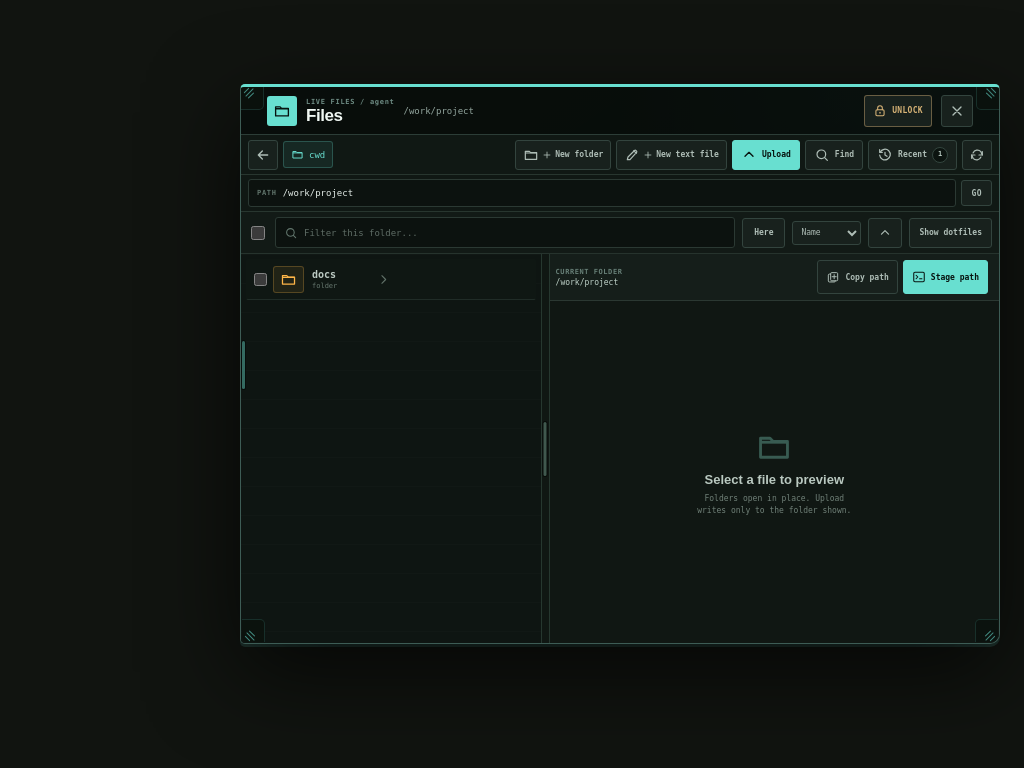
Test: SessionFilesPanel › fuzzy-locates a nested file and opens it in its parent folder
Click the button with aria-label "Open fuzzy file locator" at (834, 154), box [805, 140, 863, 170]
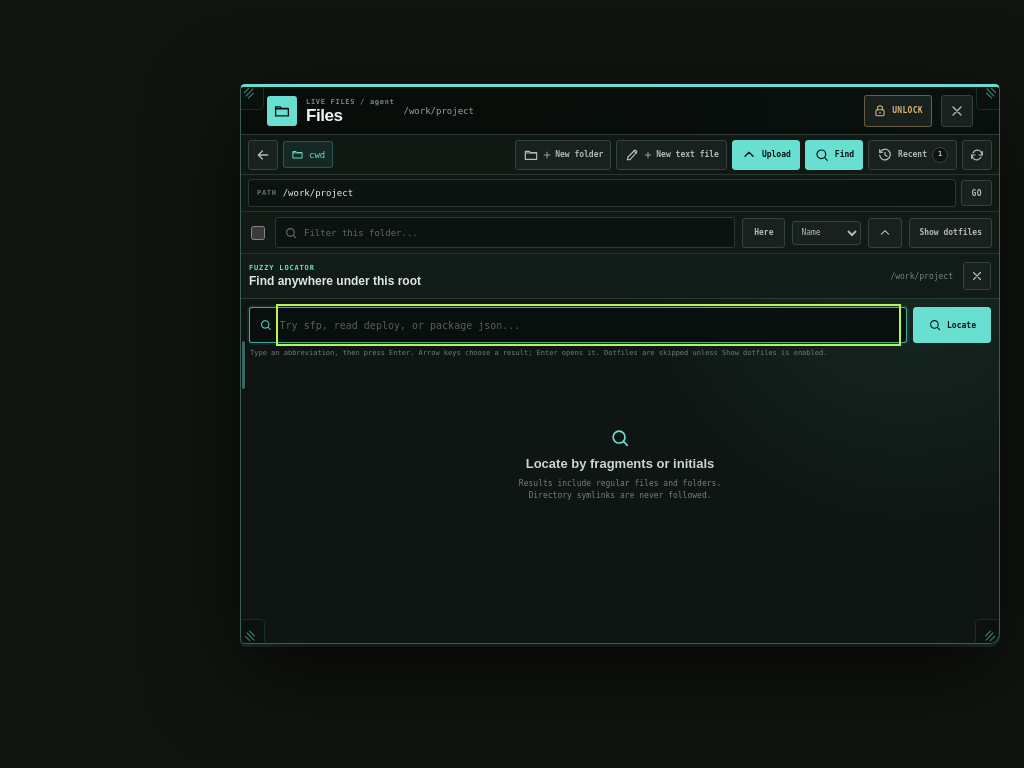
Type "sgm" into the dropdown named "Fuzzy file search" at (588, 325), box [280, 308, 897, 342]
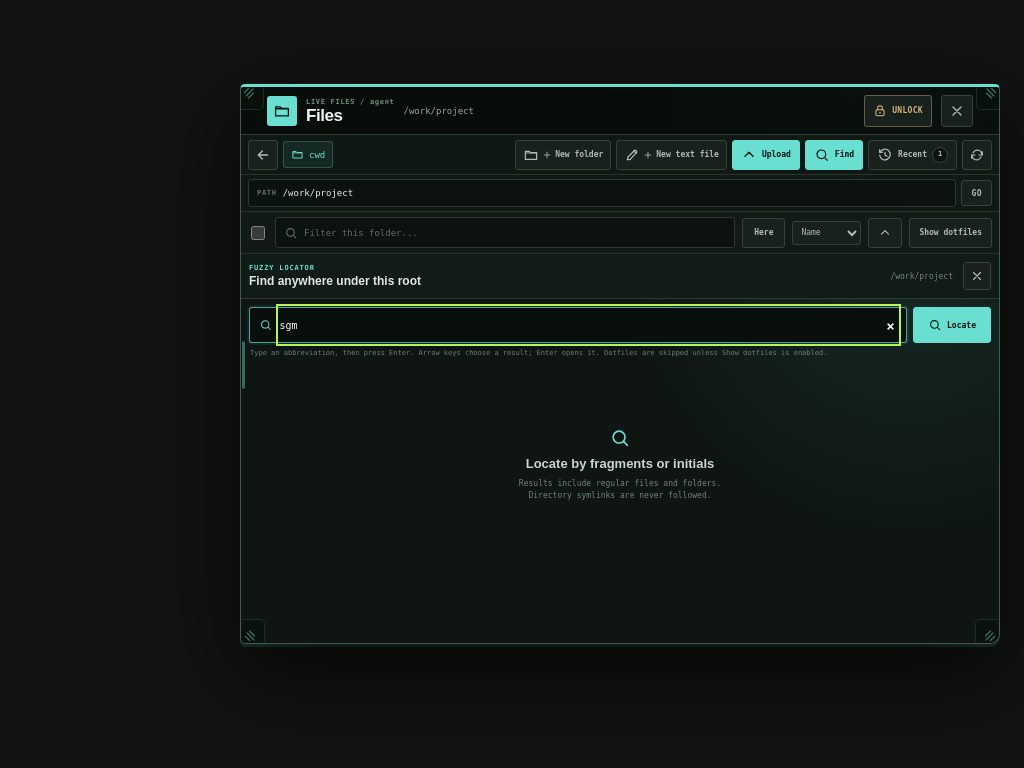
Click the button "Locate" at (952, 325), box [913, 307, 991, 343]
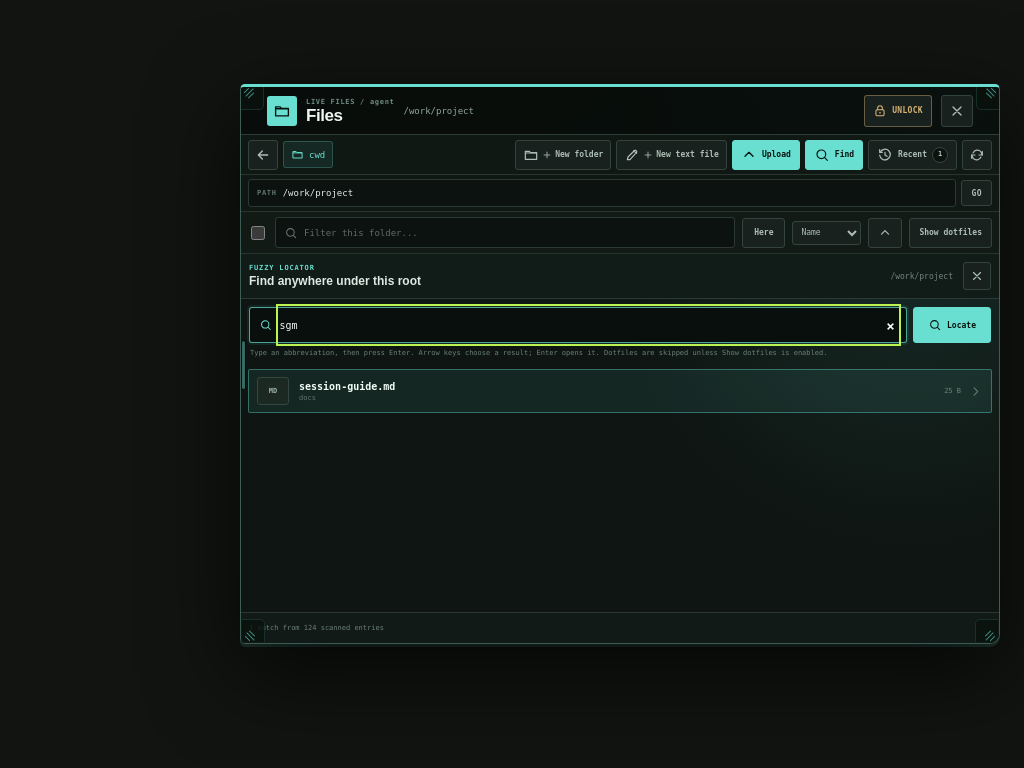
Now the text "1 match from 124 scanned entries" is shown, box [249, 624, 384, 632]
Press Enter in the dropdown named "Fuzzy file search", box [280, 308, 897, 342]
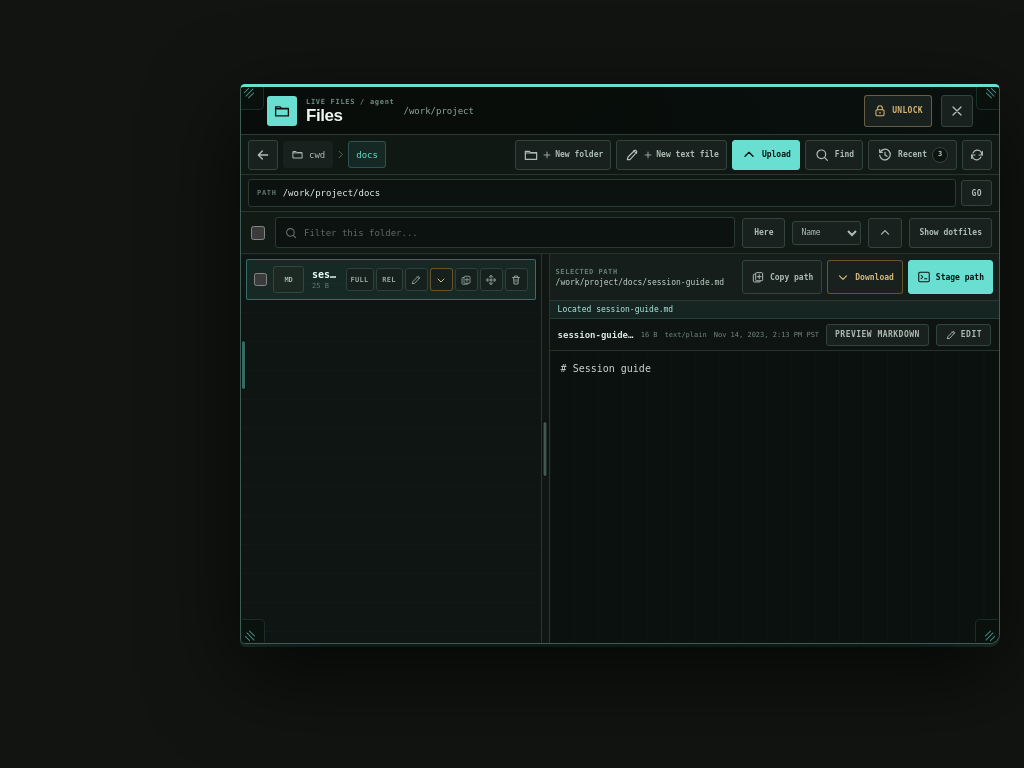
Now the text "# Session guide" is shown, box [550, 351, 999, 643]
